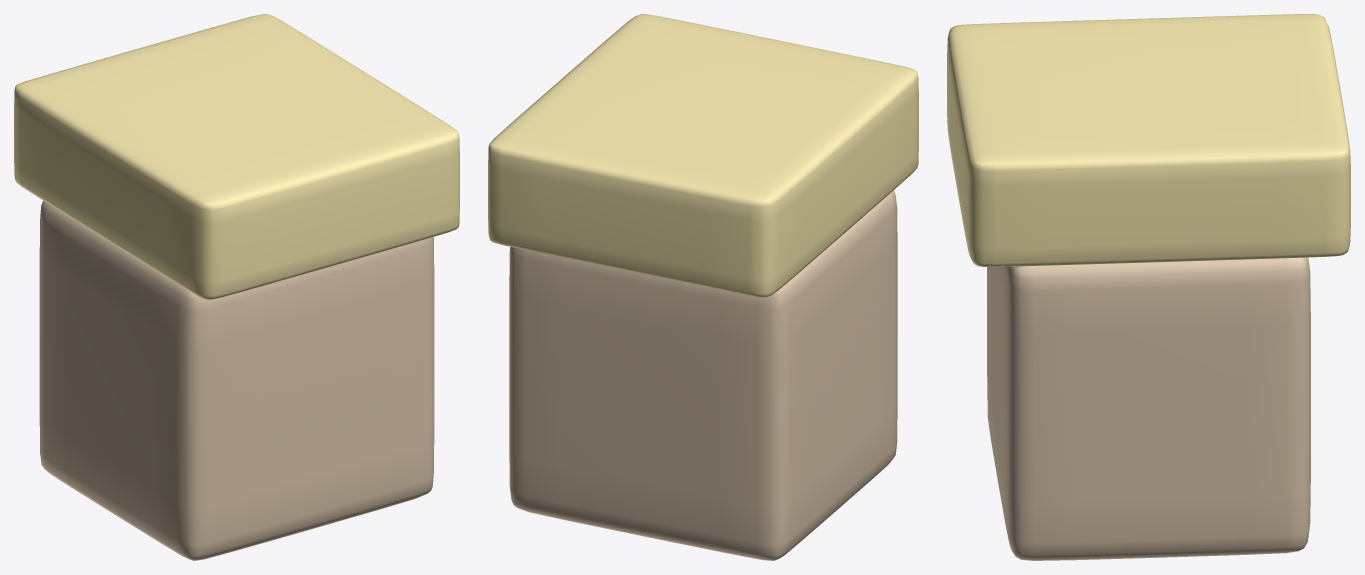
Rendered from PROP_BirdHouse_v2.glb.
3 views of the same model, side by side, from view 1: azimuth 30°, elevation 25°; view 2: azimuth 150°, elevation 25°; view 3: azimuth 270°, elevation 25° (orthographic). The views are drawn at different scales.
Parts seen in each view (by area): view 1: PROP_BirdHouse_v2; view 2: PROP_BirdHouse_v2; view 3: PROP_BirdHouse_v2.
Boxes of the visible parts, x1,y1,x2,y2 form: PROP_BirdHouse_v2: [14, 14, 459, 560]; PROP_BirdHouse_v2: [488, 14, 918, 560]; PROP_BirdHouse_v2: [947, 14, 1350, 560].
Bounding box in the file's own units: 1.13 × 1.41 × 1.26.
